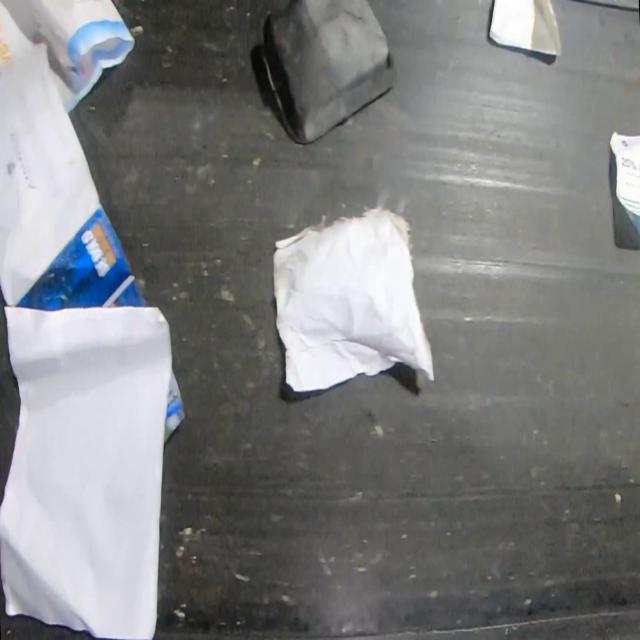rigid_plastic: (258, 0, 399, 145)
